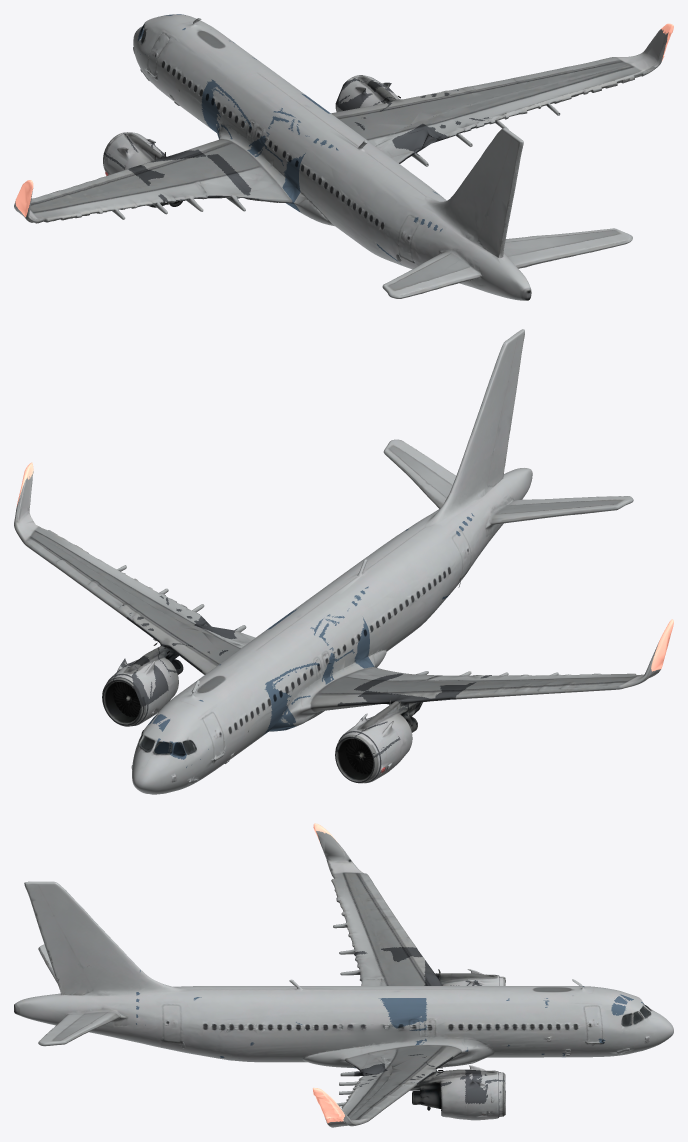
The model's file is aircraft-lod0.glb.
The picture shows the model from 3 angles, top to bottom: view 1: azimuth 30°, elevation 25°; view 2: azimuth 150°, elevation 25°; view 3: azimuth 270°, elevation 25°; orthographic projection. The views are drawn at different scales.
Parts seen in each view (by area): view 1: lod0; view 2: lod0; view 3: lod0.
Boxes of the visible parts, x1,y1,x2,y2 form: lod0: (14,14,673,300); lod0: (14,329,673,794); lod0: (14,823,673,1127).
Size of the model in its own units: 35.8 by 11.76 by 37.57.
Materials: 11 (11 with a texture image).
